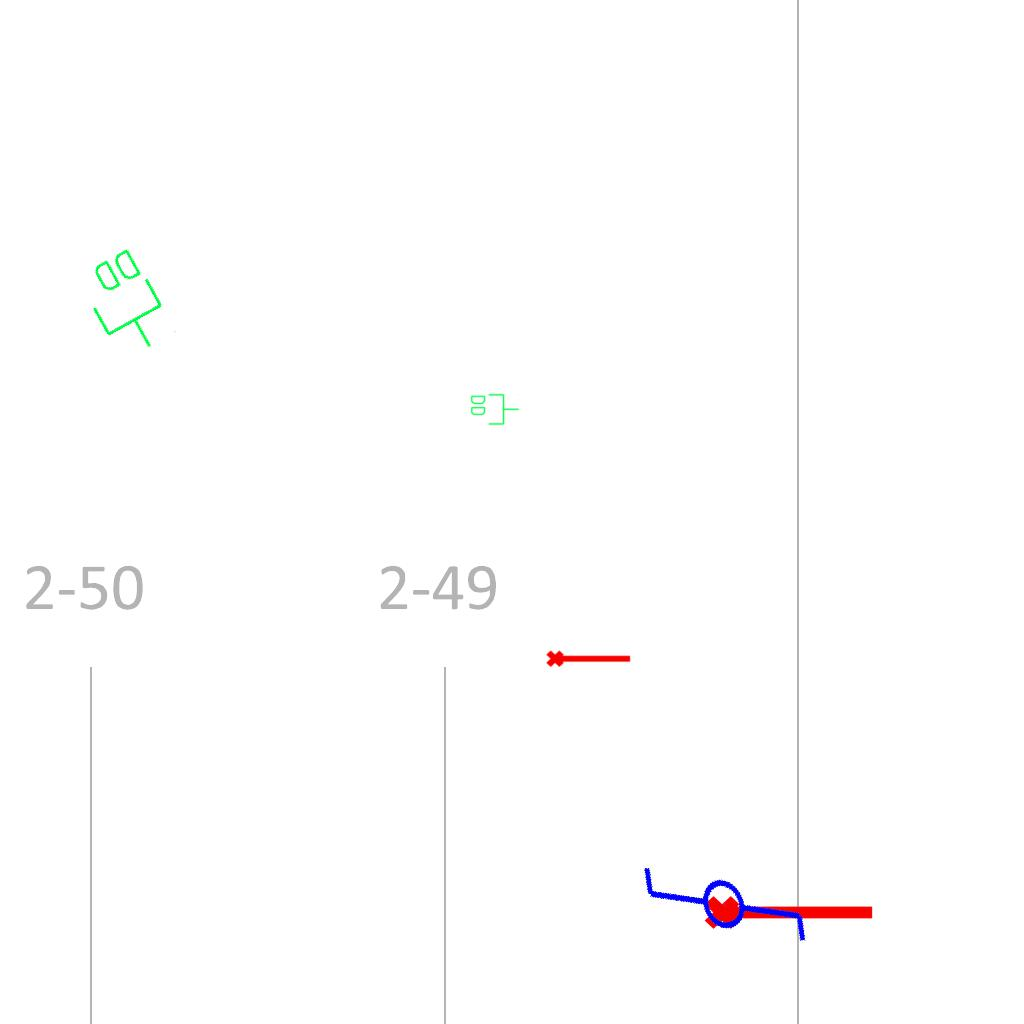ASR_Ansaugoeffnung: (702, 887, 878, 933), (545, 646, 633, 669)
Datenanschluss_zweifach: (71, 241, 182, 366), (469, 392, 520, 426)
Wechselschalter: (624, 795, 821, 997)
